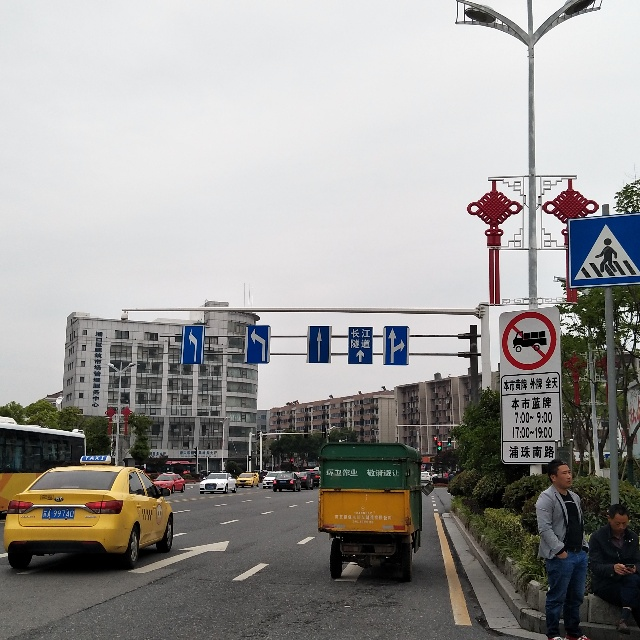crosswalk: (566, 213, 640, 288)
left: (243, 325, 271, 364), (180, 324, 204, 364)
straight: (307, 326, 332, 364)
